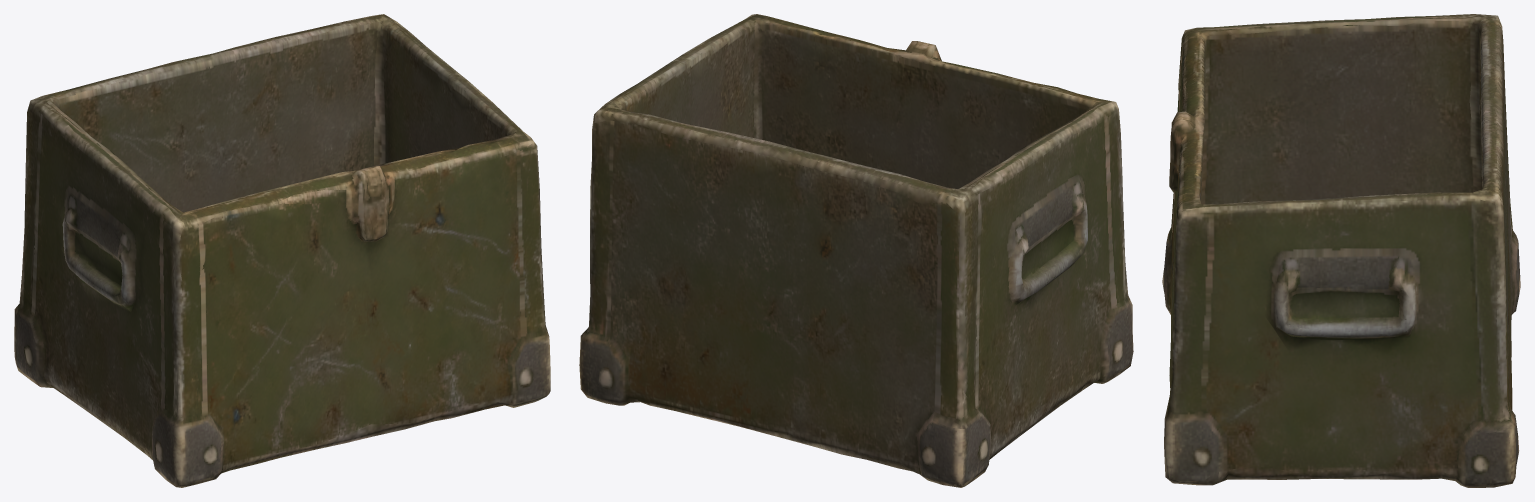
The model's file is bunker_supply_chest_body_candidate.glb.
3 views of the same model, side by side, from view 1: azimuth 30°, elevation 25°; view 2: azimuth 150°, elevation 25°; view 3: azimuth 270°, elevation 25° (orthographic). The views are drawn at different scales.
Visible parts, largest first — view 1: bunker_supply_chest_body_candidate; view 2: bunker_supply_chest_body_candidate; view 3: bunker_supply_chest_body_candidate.
Boxes of the visible parts, x1,y1,x2,y2 form: bunker_supply_chest_body_candidate: (14, 14, 550, 487); bunker_supply_chest_body_candidate: (579, 14, 1133, 487); bunker_supply_chest_body_candidate: (1162, 14, 1520, 487).
Bounding box in the file's own units: 0.88 × 0.62 × 0.68.
1 material, 1 textured.
